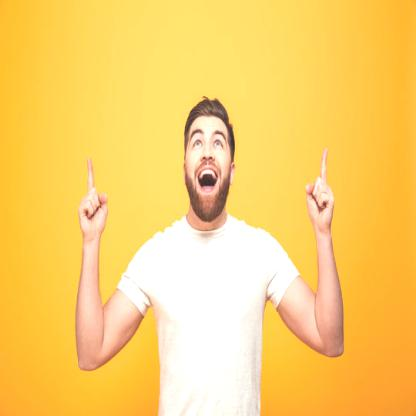Up: (69, 152, 119, 258), (298, 142, 344, 249)
